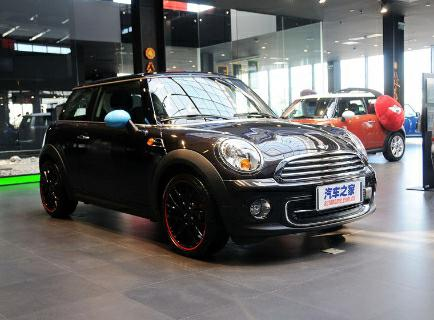MINI: (41, 73, 376, 250)
